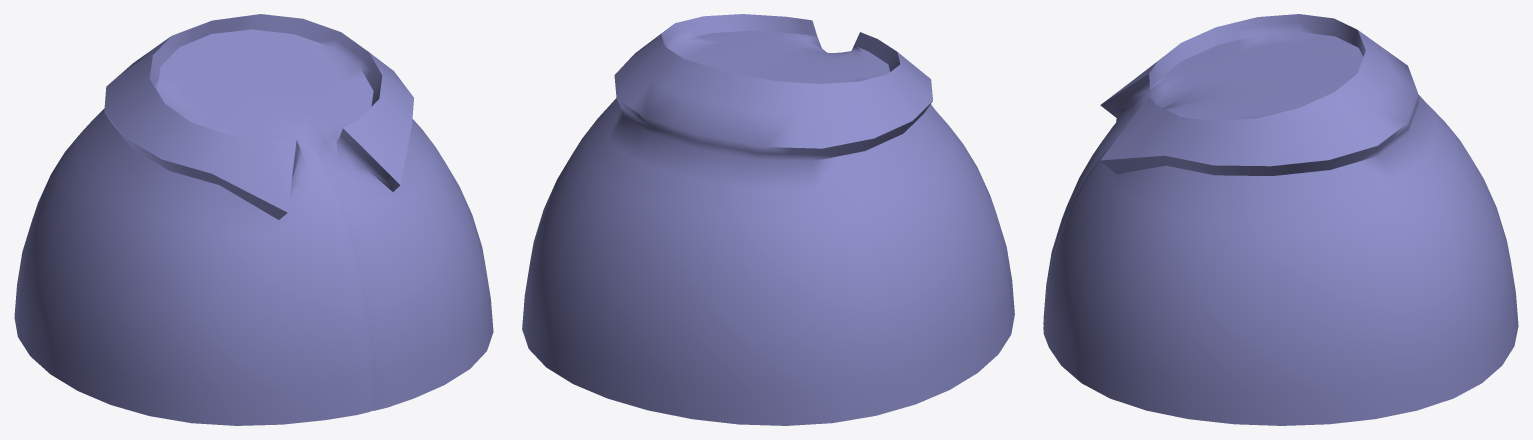
3 renders of one model, left to right at view 1: azimuth 30°, elevation 25°; view 2: azimuth 150°, elevation 25°; view 3: azimuth 270°, elevation 25°, orthographic. The views are drawn at different scales.
Visible parts, largest first — view 1: shirt_blue; view 2: shirt_blue; view 3: shirt_blue.
Part boxes in pixels (bbox=[...]): shirt_blue: bbox=[14, 14, 493, 425]; shirt_blue: bbox=[522, 14, 1014, 425]; shirt_blue: bbox=[1043, 14, 1518, 425].
Bounding box in the file's own units: 1.36 × 0.8732 × 1.36.
